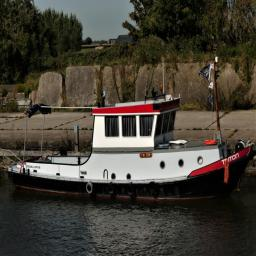tugboat: (7, 92, 255, 208)
